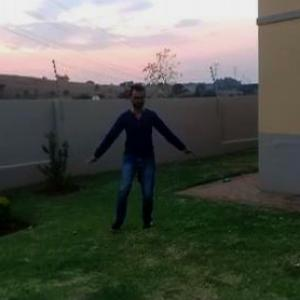land: (79, 74, 189, 238)
